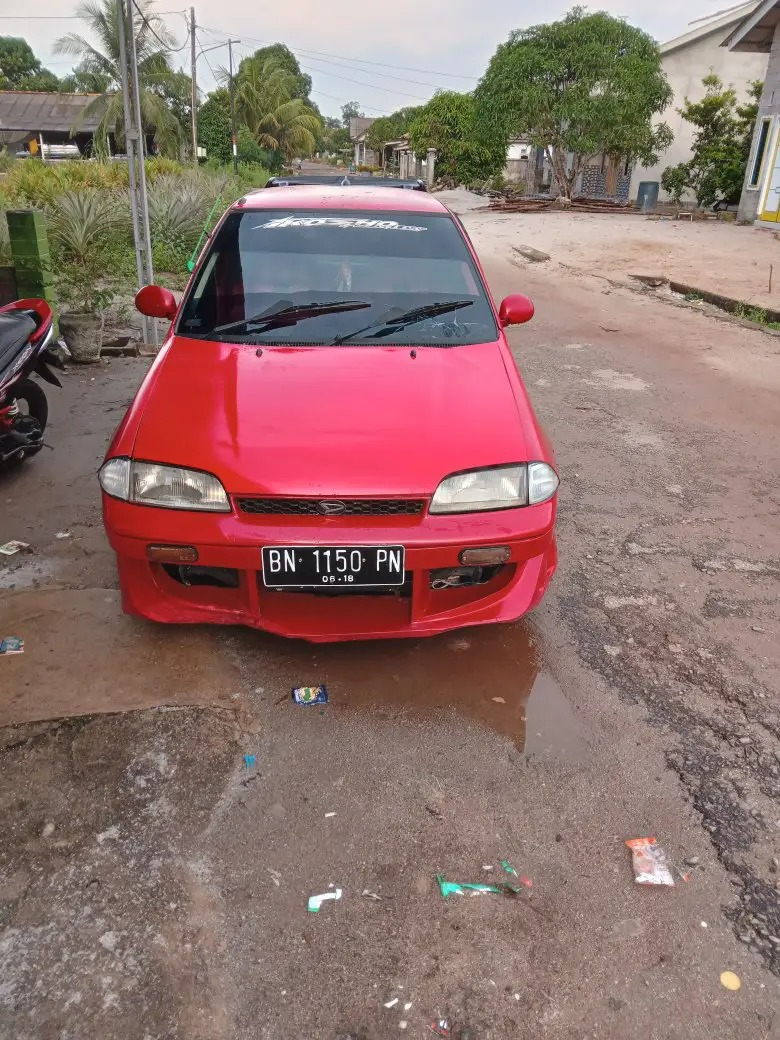plate: (253, 538, 414, 594)
